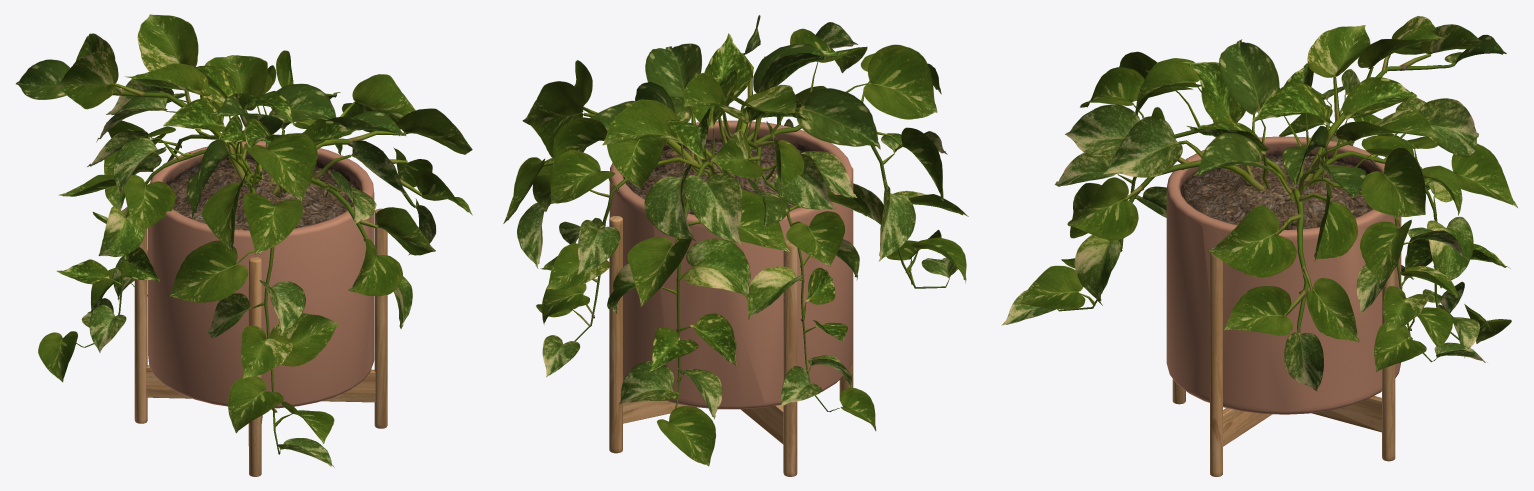
The model's file is plant.glb.
3 views of the same model, side by side, from view 1: azimuth 30°, elevation 25°; view 2: azimuth 150°, elevation 25°; view 3: azimuth 270°, elevation 25° (orthographic). The views are drawn at different scales.
Parts seen in each view (by area): view 1: POTHOS_POTHOS_Mat_0, POT_WOOD_LEGS_WOODEN_LEGS_POT_0; view 2: POTHOS_POTHOS_Mat_0, POT_WOOD_LEGS_WOODEN_LEGS_POT_0; view 3: POTHOS_POTHOS_Mat_0, POT_WOOD_LEGS_WOODEN_LEGS_POT_0.
Boxes of the visible parts, x1=… form: POTHOS_POTHOS_Mat_0: x1=16, y1=14, x2=472, y2=467; POT_WOOD_LEGS_WOODEN_LEGS_POT_0: x1=134, y1=141, x2=387, y2=476; POTHOS_POTHOS_Mat_0: x1=503, y1=15, x2=968, y2=466; POT_WOOD_LEGS_WOODEN_LEGS_POT_0: x1=609, y1=120, x2=853, y2=476; POTHOS_POTHOS_Mat_0: x1=1001, y1=16, x2=1517, y2=391; POT_WOOD_LEGS_WOODEN_LEGS_POT_0: x1=1166, y1=136, x2=1401, y2=476.
Bounding box in the file's own units: 0.8266 × 0.7916 × 0.9741.
Materials: 2 (2 with a texture image).
